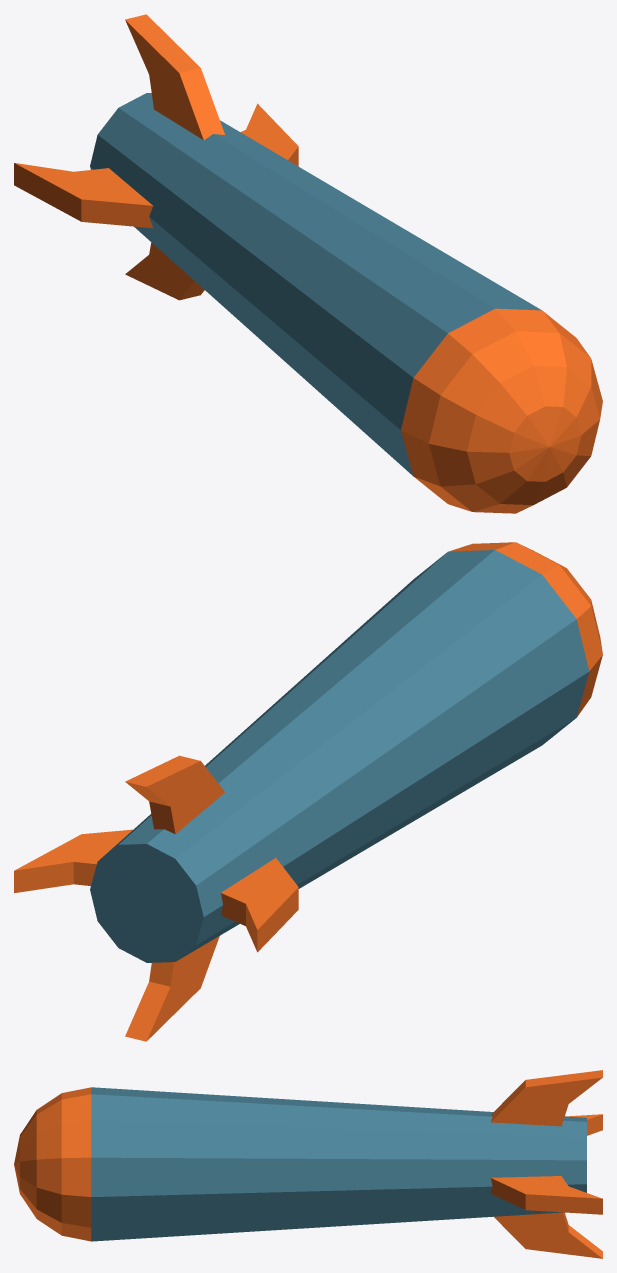
File: rocket.fbx
3 views of the same model, one above another, from view 1: azimuth 30°, elevation 25°; view 2: azimuth 150°, elevation 25°; view 3: azimuth 270°, elevation 25° (orthographic). The views are drawn at different scales.
Visible parts, largest first — view 1: Cube; view 2: Cube; view 3: Cube.
Part boxes in pixels (box(x1,y1,x2,y2)): Cube: box(14, 14, 602, 513); Cube: box(14, 542, 602, 1041); Cube: box(14, 1070, 602, 1258).
Size of the model in its own units: 32.3 by 32.3 by 95.06.
